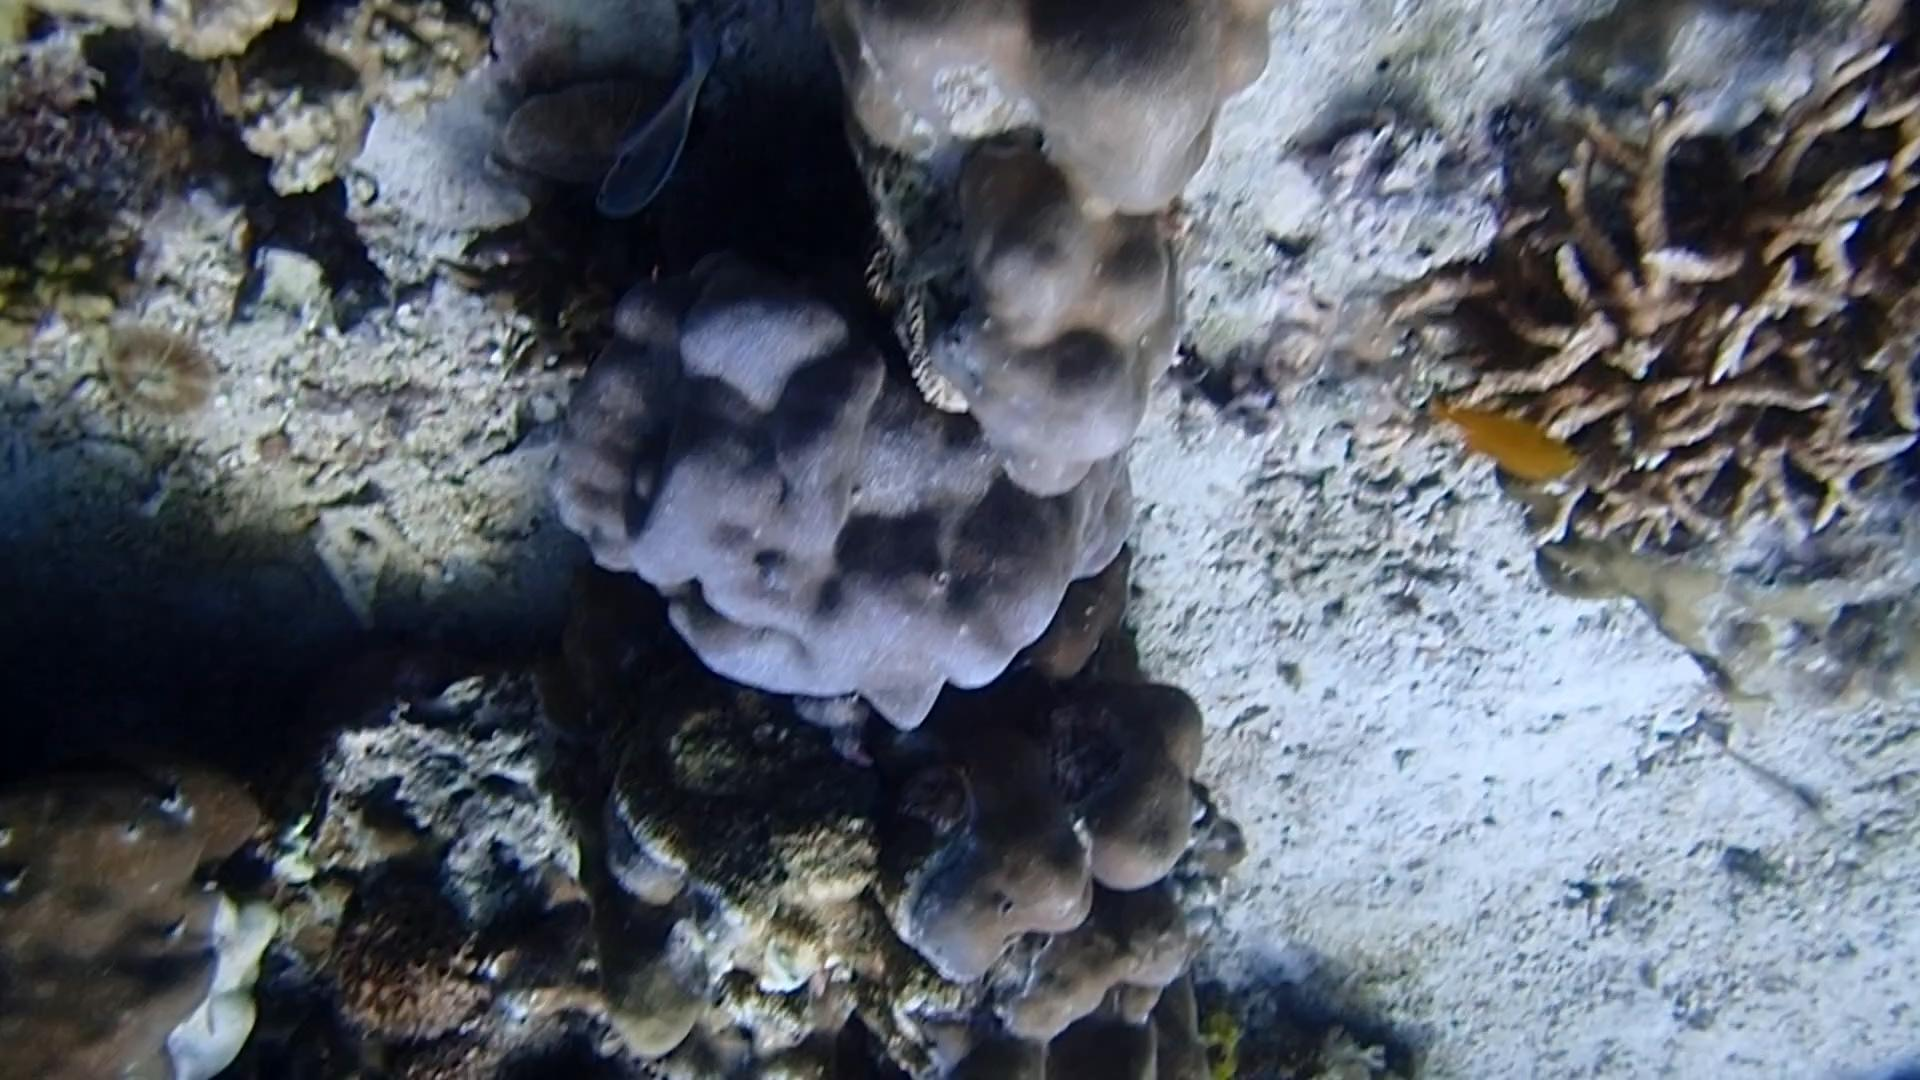Blue Fish Two: (585, 13, 736, 223)
Yellow Fish: (1422, 394, 1581, 491)
